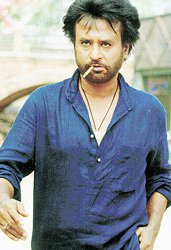cigarette: (82, 65, 96, 76)
